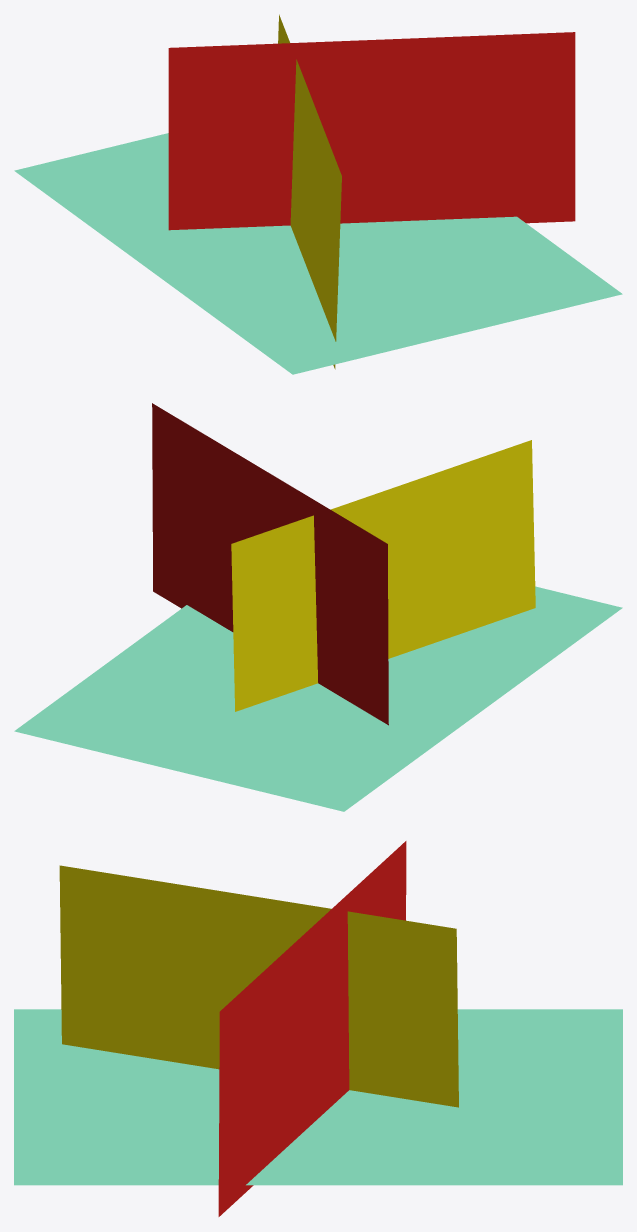
3 renders of one model, top to bottom at view 1: azimuth 30°, elevation 25°; view 2: azimuth 150°, elevation 25°; view 3: azimuth 270°, elevation 25°, orthographic. The views are drawn at different scales.
Parts seen in each view (by area): view 1: 平面, Plane, 平面.001; view 2: Plane, 平面.001, 平面; view 3: Plane, 平面.001, 平面.
Part boxes in pixels (x1,y1,x2,y2): 平面: [168, 32, 575, 230]; Plane: [14, 133, 622, 374]; 平面.001: [278, 14, 341, 369]; Plane: [14, 586, 622, 811]; 平面.001: [231, 440, 535, 711]; 平面: [152, 403, 388, 725]; Plane: [14, 1009, 622, 1185]; 平面.001: [59, 865, 458, 1107]; 平面: [218, 841, 406, 1216].
Size of the model in its own units: 56.42 by 29.89 by 72.34.
